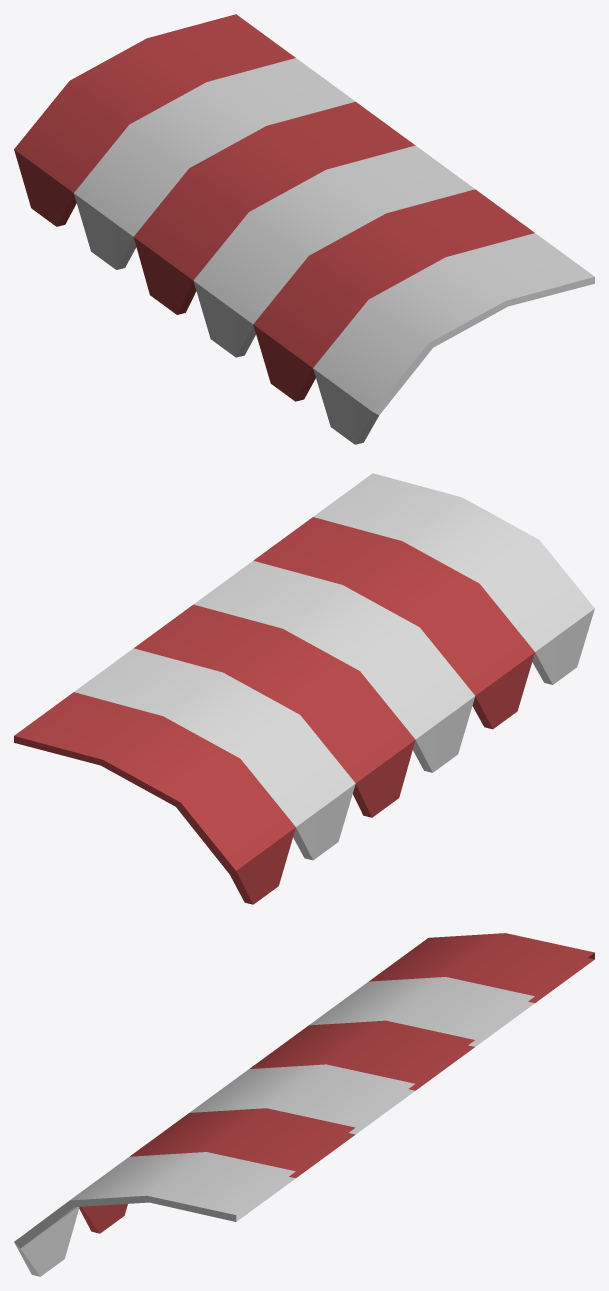
File: Awning_3_J.fbx
The picture shows the model from 3 angles, top to bottom: view 1: azimuth 30°, elevation 25°; view 2: azimuth 150°, elevation 25°; view 3: azimuth 330°, elevation 25°; orthographic projection.
Visible parts, largest first — view 1: Awning_3_J; view 2: Awning_3_J; view 3: Awning_3_J.
Part boxes in pixels (<box>): Awning_3_J: <box>14,14,594,444</box>; Awning_3_J: <box>14,473,594,904</box>; Awning_3_J: <box>14,933,594,1276</box>.
Size of the model in its own units: 99.94 by 54.72 by 280.
